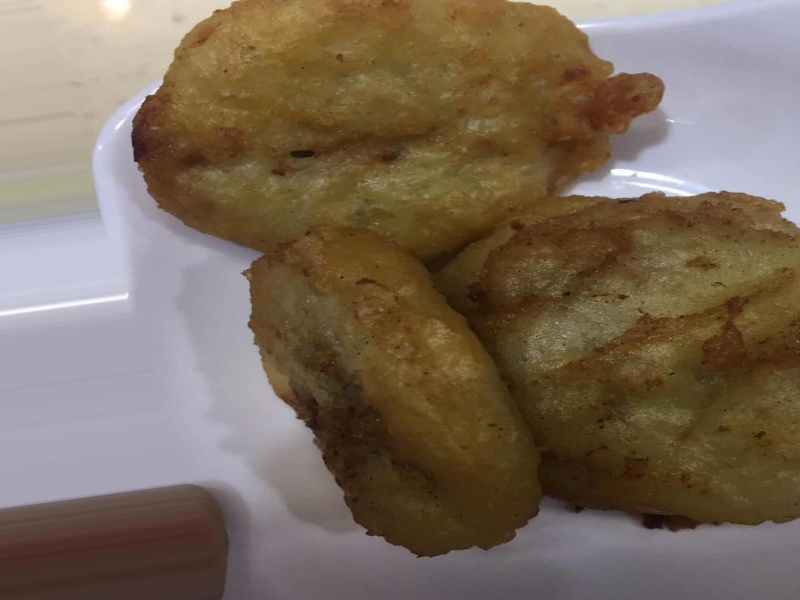patato: (132, 3, 800, 541)
